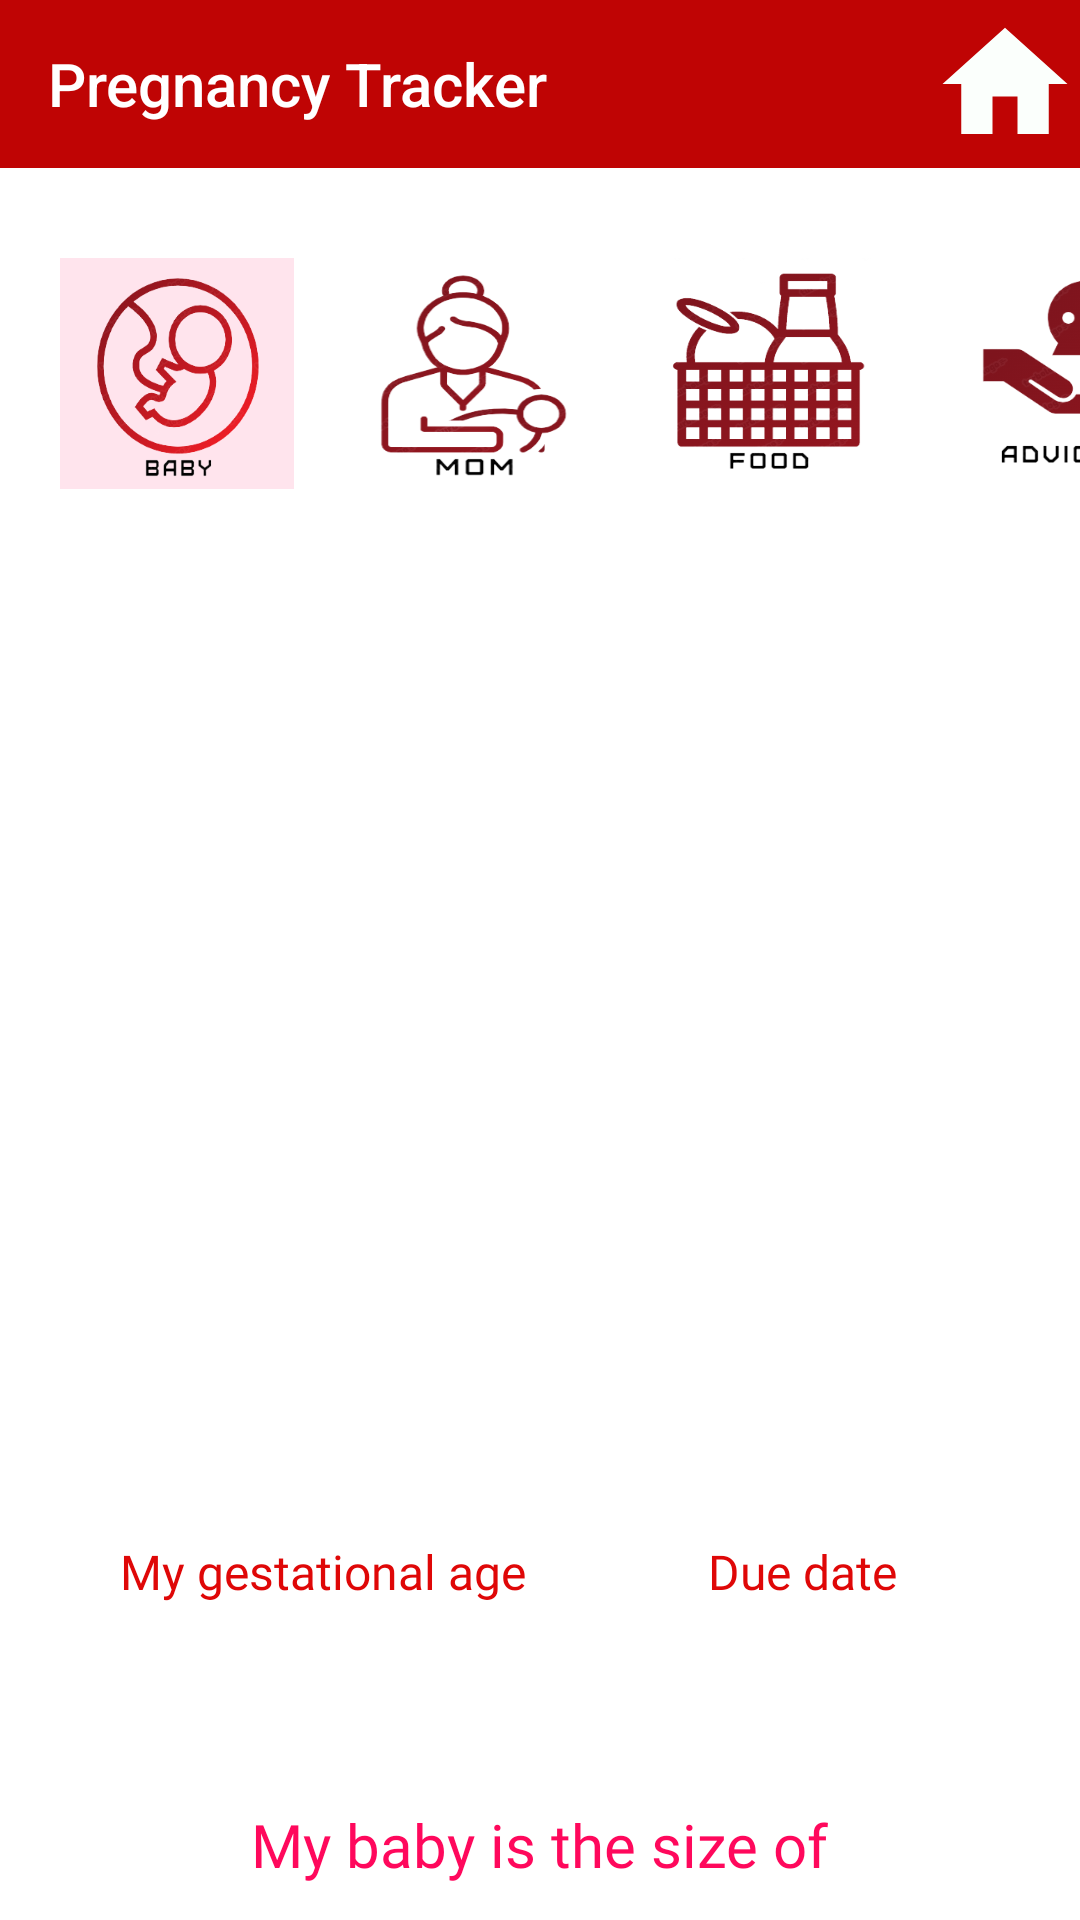

Named icons in this screenshot (1080w x 1920h) and their centers, (x=x, y=y):
home: (x=1005, y=81)
